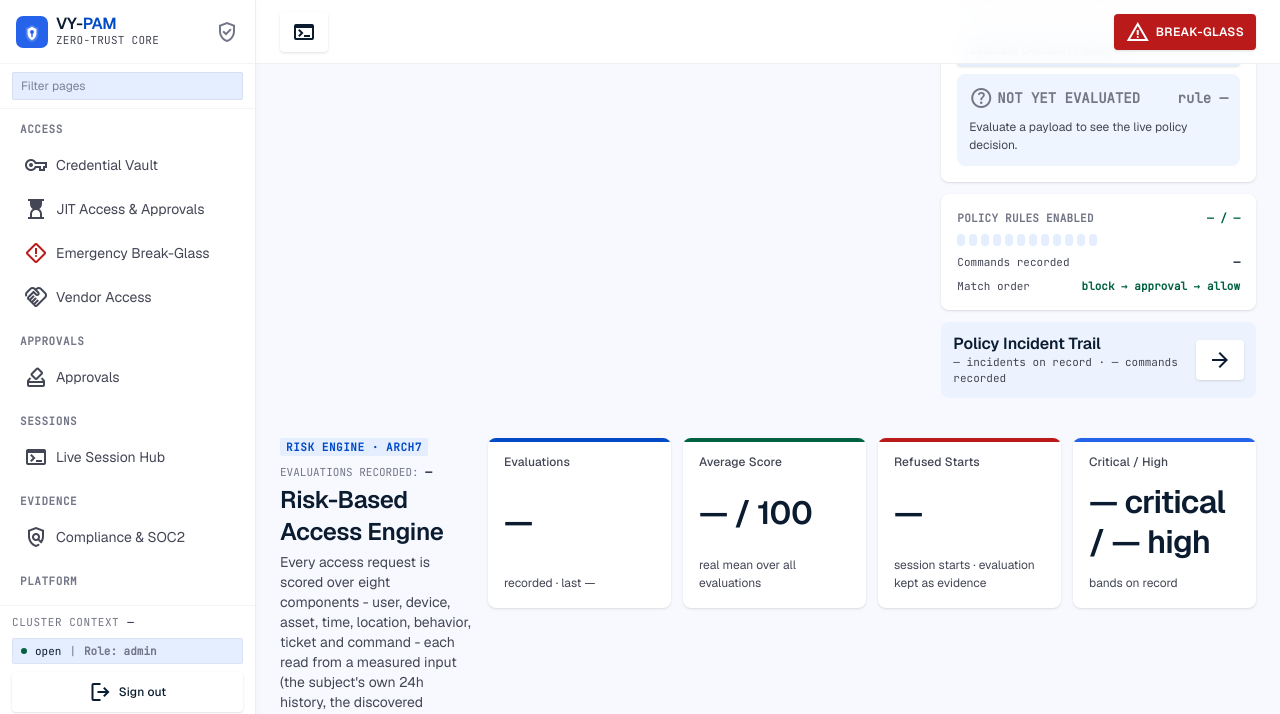
Test: Policy & Zero Trust (F4 screen 5) › the incident-trail teaser jumps to the incidents tab
(page scrolled)
Click the button named "Show incident trail".
click(1220, 360)  # box [1196,340,1244,380]
(page scrolled)
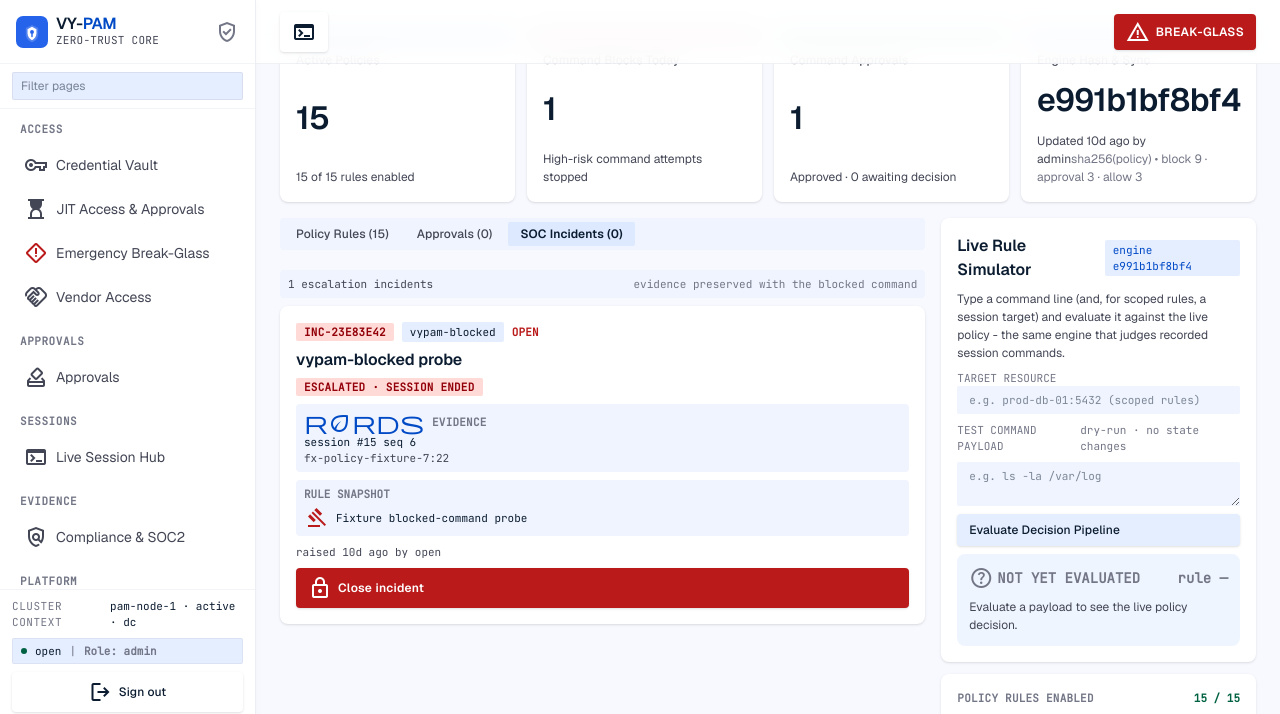
Expected: the heading "vypam-blocked probe" is shown, [296,349,462,370]
